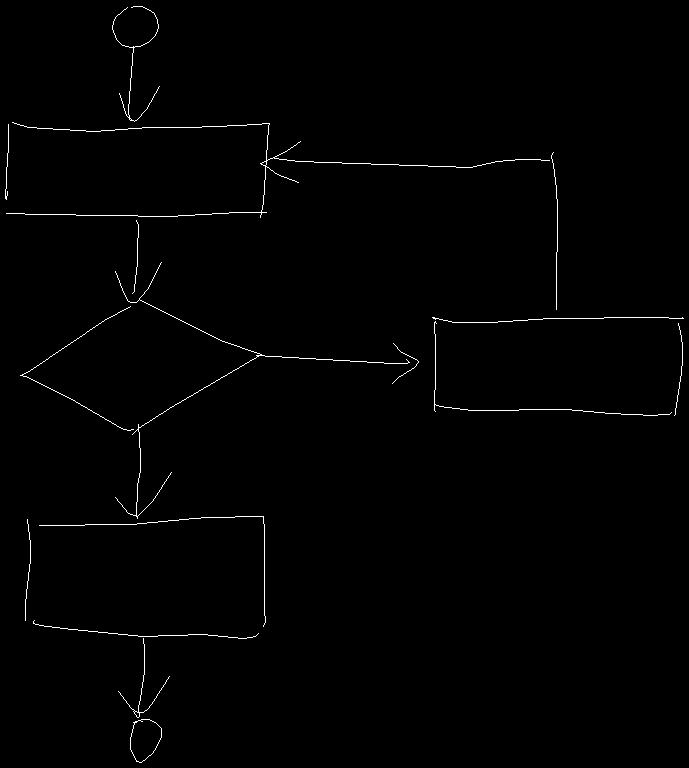arrow: (260, 141, 557, 309), (256, 343, 418, 383), (115, 424, 171, 518), (118, 638, 169, 717), (115, 220, 161, 302), (119, 46, 159, 121)
connection: (112, 6, 158, 47), (130, 719, 161, 762)
decision: (20, 299, 261, 434)
process: (25, 516, 265, 638), (5, 122, 269, 217), (432, 317, 683, 415)
